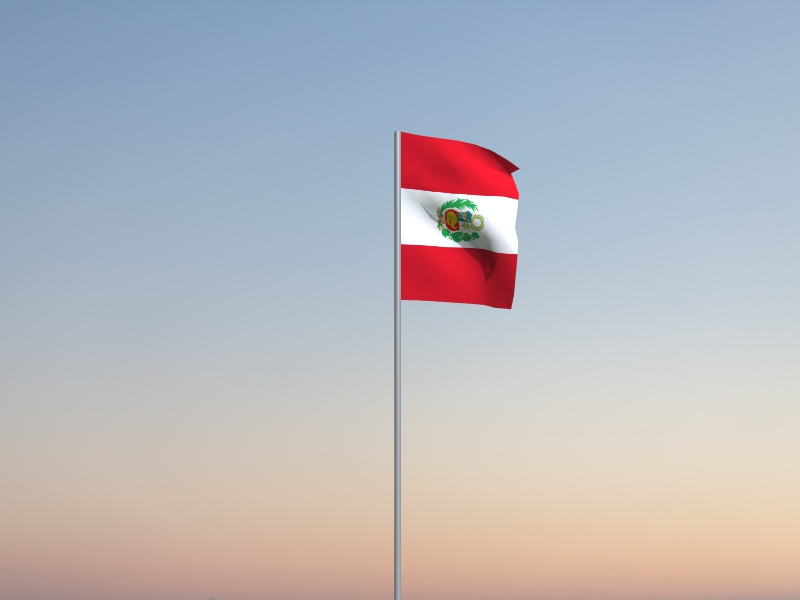pe: (401, 133, 521, 311)
